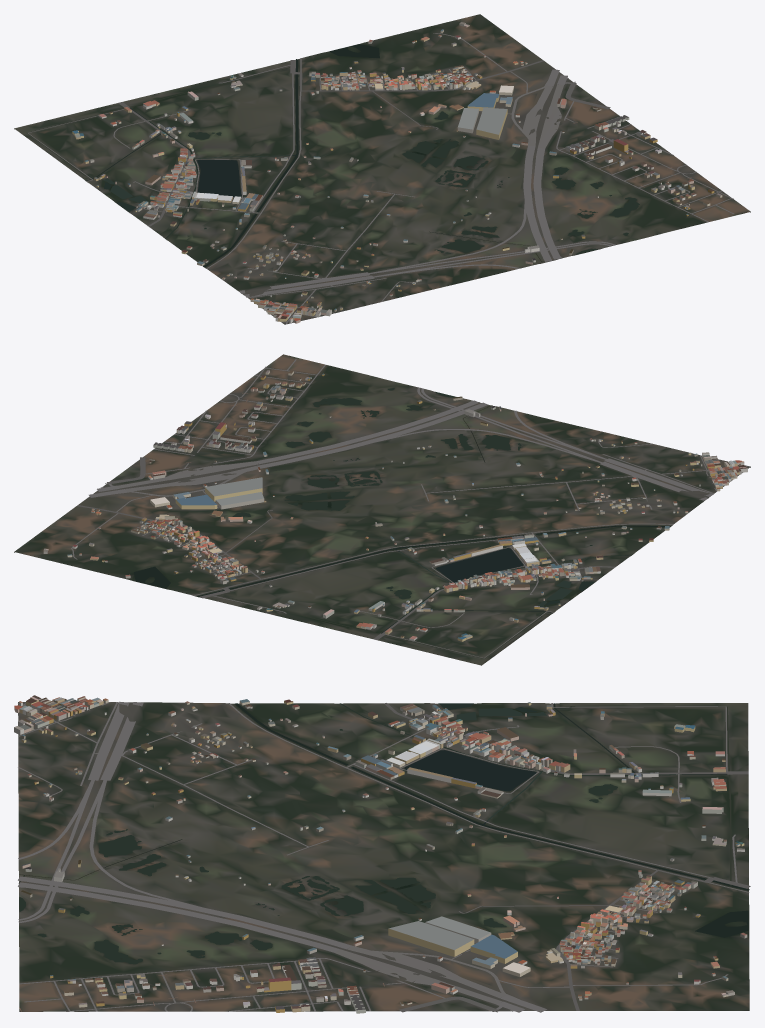
The picture shows the model from 3 angles, top to bottom: view 1: azimuth 30°, elevation 25°; view 2: azimuth 150°, elevation 25°; view 3: azimuth 270°, elevation 25°; orthographic projection. The views are drawn at different scales.
Visible parts, largest first — view 1: ground, buildings, roads, water; view 2: ground, buildings, roads, water; view 3: ground, buildings, roads, water.
Part boxes in pixels (<box>): ground: <box>14,14,750,324</box>; buildings: <box>72,22,722,323</box>; roads: <box>27,33,749,324</box>; water: <box>27,44,639,267</box>; ground: <box>14,354,750,665</box>; buildings: <box>43,370,747,641</box>; roads: <box>71,354,748,658</box>; water: <box>134,388,670,658</box>; ground: <box>18,702,749,1011</box>; buildings: <box>14,695,747,1013</box>; roads: <box>18,701,750,1012</box>; water: <box>18,703,749,964</box>.
Size of the model in its own units: 1418 by 25.33 by 1415.
